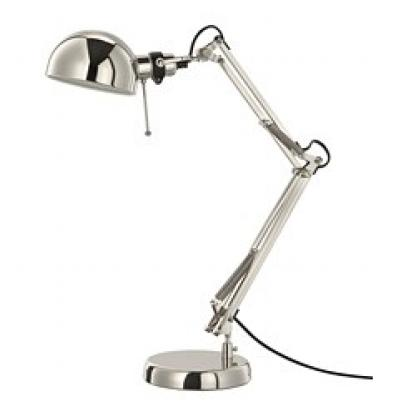Lamp: (15, 7, 348, 401)
